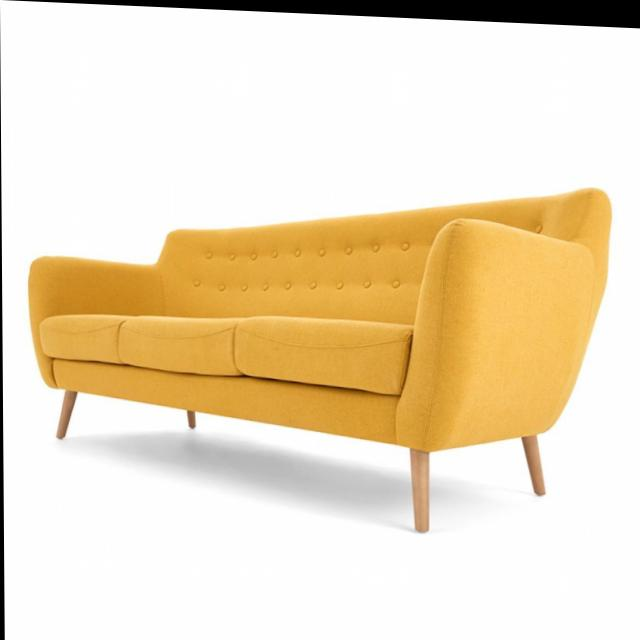Sofa: (23, 159, 613, 534)
